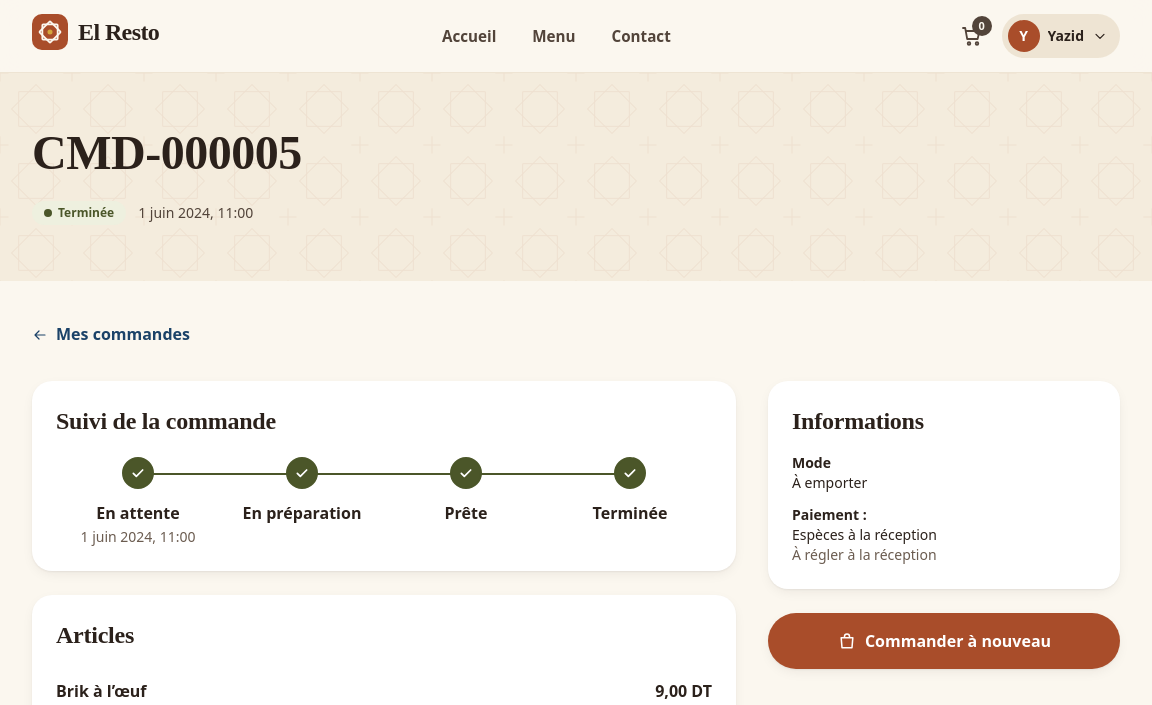
Test: /commandes/:id : détail et actions › « Commander à nouveau » : ajoute les articles disponibles et résume ceux qui manquent
The width and height of the screenshot is (1152, 705).
What coordinates should you click on to do the following:
click the button "Commander à nouveau"
I would click on:
 (944, 641)
Its box is [768, 613, 1120, 669].
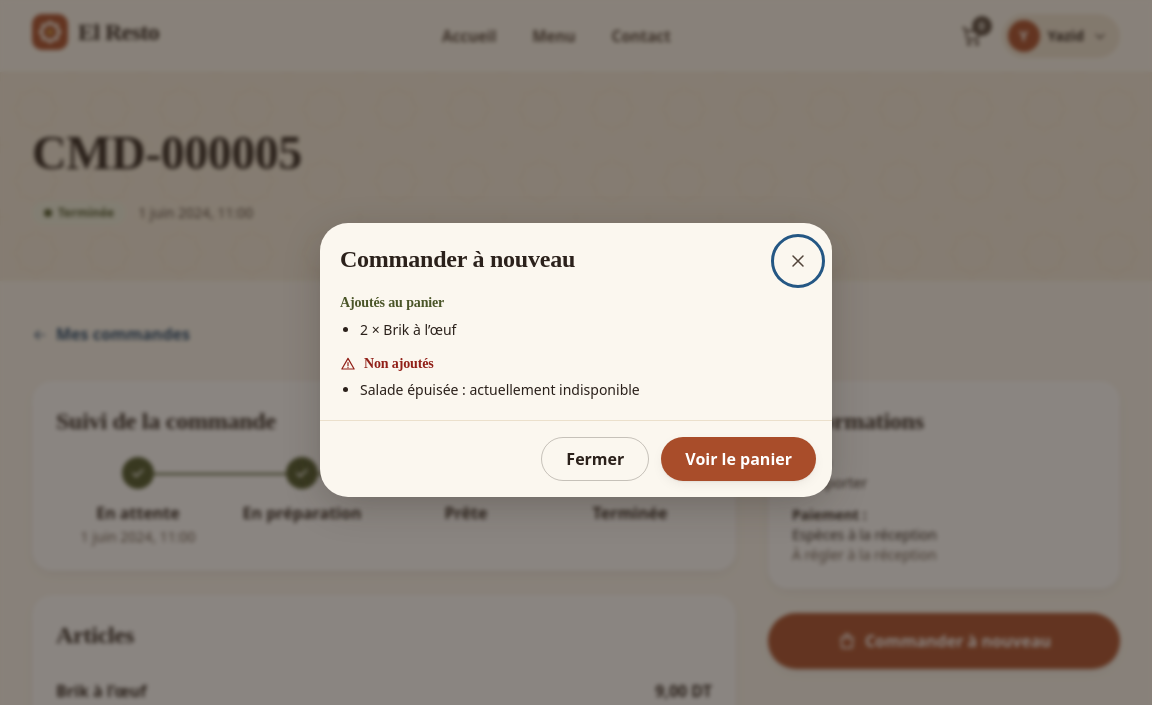
Expected: the list item "Salade épuisée : actuellement indisponible" is shown, [360, 380, 640, 399]
Expected: the list item "2 × Brik à l’œuf" is shown, [360, 320, 456, 338]
